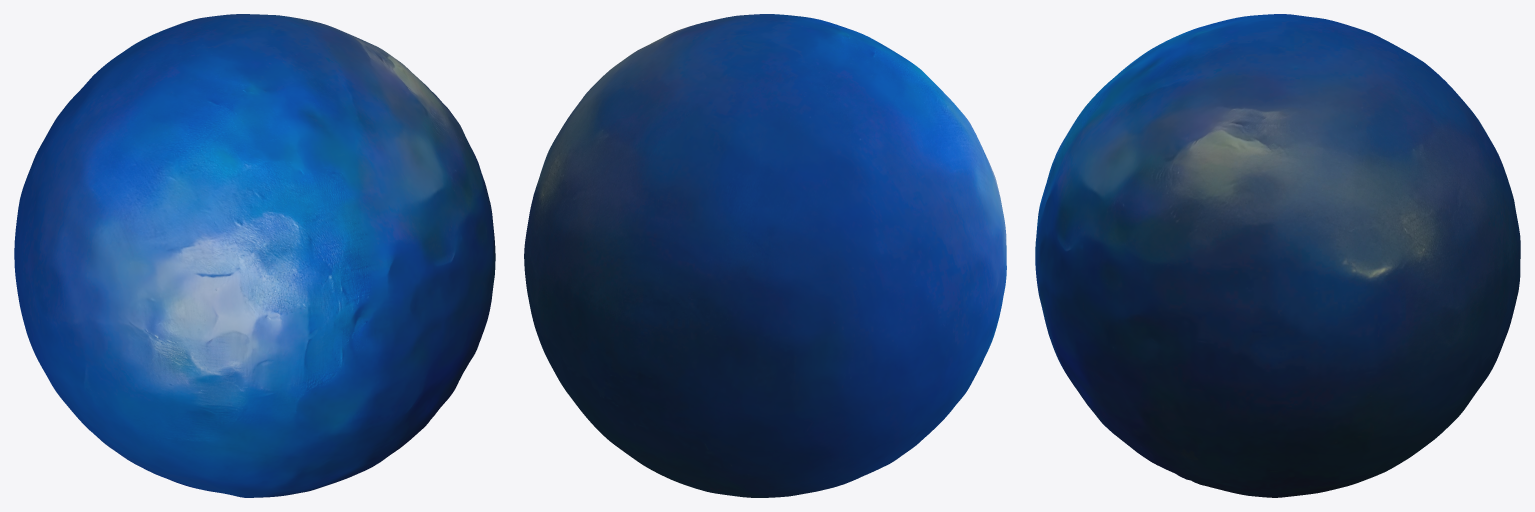
File: clay.glb
The picture shows the model from 3 angles, left to right: view 1: azimuth 30°, elevation 25°; view 2: azimuth 150°, elevation 25°; view 3: azimuth 270°, elevation 25°; orthographic projection.
Parts seen in each view (by area): view 1: model; view 2: model; view 3: model.
Part boxes in pixels (bbox=[...]): model: bbox=[14, 14, 495, 497]; model: bbox=[524, 14, 1006, 497]; model: bbox=[1035, 14, 1520, 497].
Bounding box in the file's own units: 0.2022 × 0.2 × 0.2007.
Materials: 1 (1 with a texture image).
